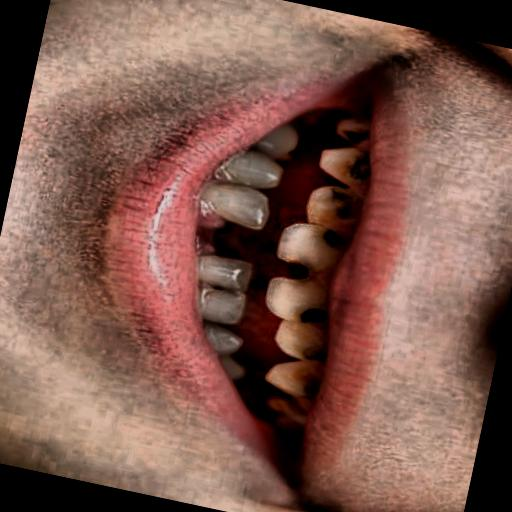Caries: (292, 90, 394, 263), (266, 277, 346, 428)
